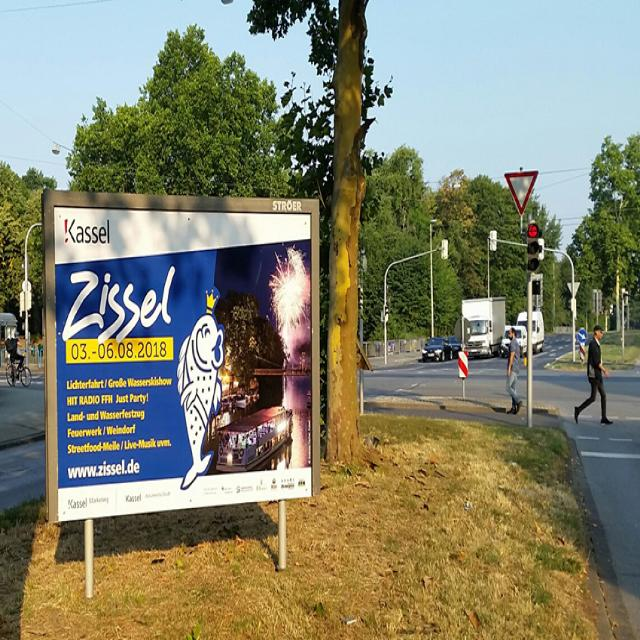Werbetafel frei: (42, 187, 321, 528)
